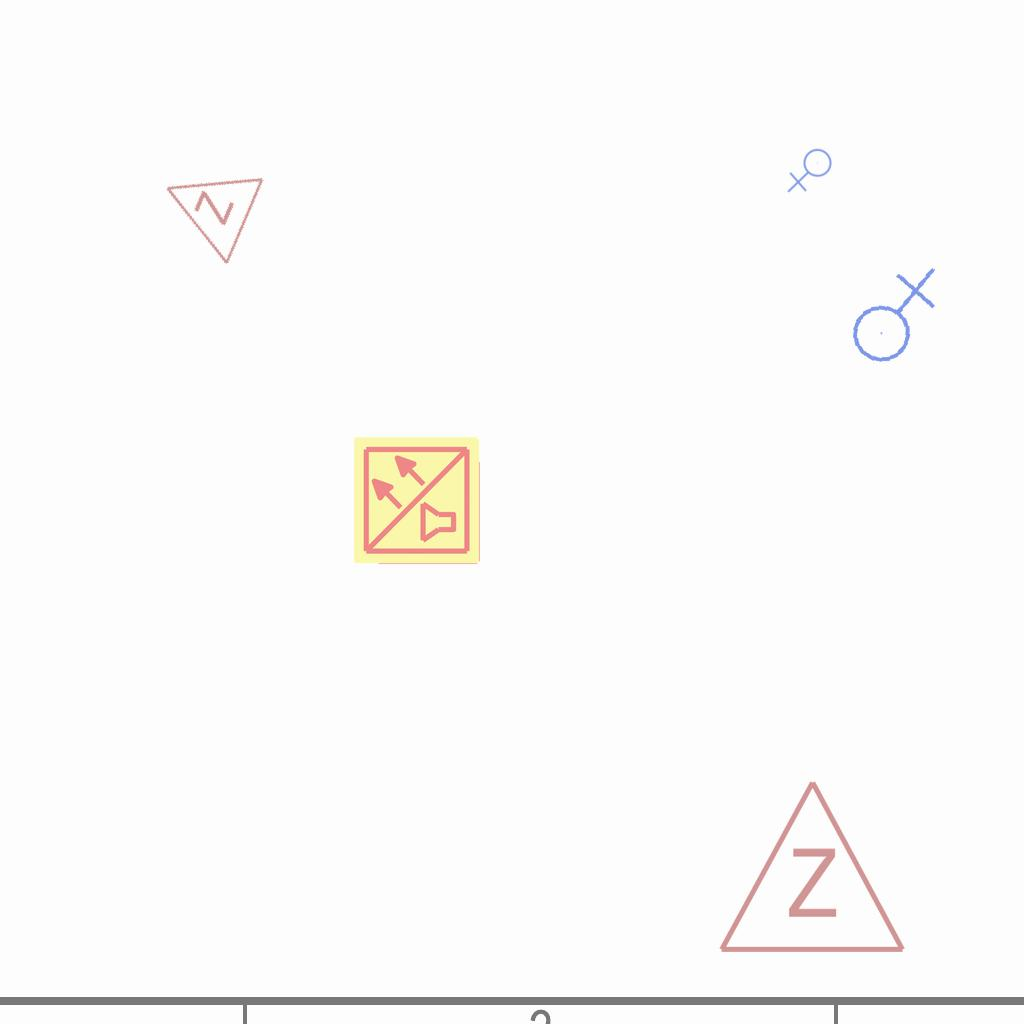Elektroanschluss_allgemein_230V_Geraeteanschlussdose_230V: (836, 262, 947, 368), (787, 148, 836, 195)
OKW_Multisensormelder_(Kombination_optischer_Rauch-Kahlenmonoxid_Waerme-Melder): (351, 434, 483, 566)
Zimmersignalleuchte: (712, 767, 908, 967), (140, 141, 272, 271)
